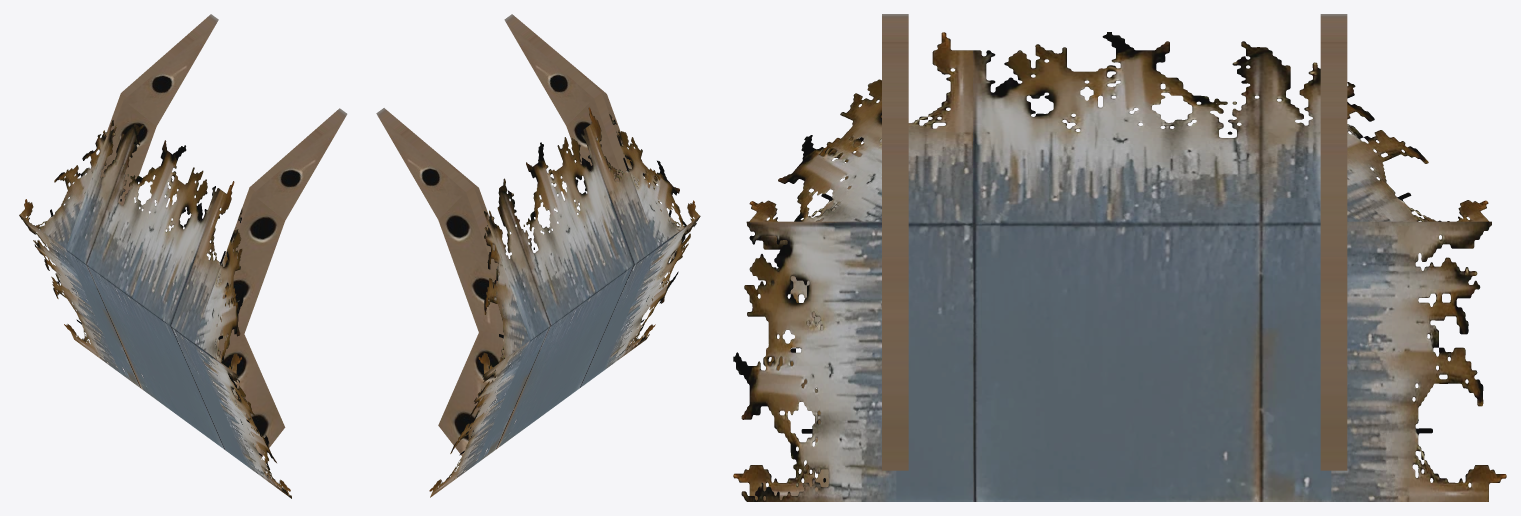
Rendered from crashrib_hdtex.glb.
3 renders of one model, left to right at view 1: azimuth 30°, elevation 25°; view 2: azimuth 150°, elevation 25°; view 3: azimuth 270°, elevation 25°, orthographic. The views are drawn at different scales.
Parts seen in each view (by area): view 1: Crash Rib; view 2: Crash Rib; view 3: Crash Rib.
Boxes of the visible parts, x1,y1,x2,y2 form: Crash Rib: [19, 14, 347, 498]; Crash Rib: [376, 14, 700, 497]; Crash Rib: [733, 14, 1506, 501].
Bounding box in the file's own units: 8.01 × 17 × 21.01.
2 materials, 2 textured.
